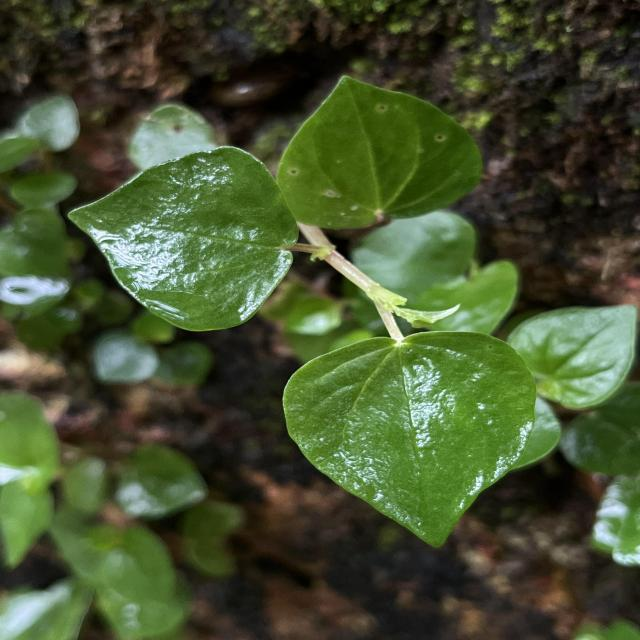Peperomia pellucida: (278, 324, 542, 556), (62, 140, 304, 336)
